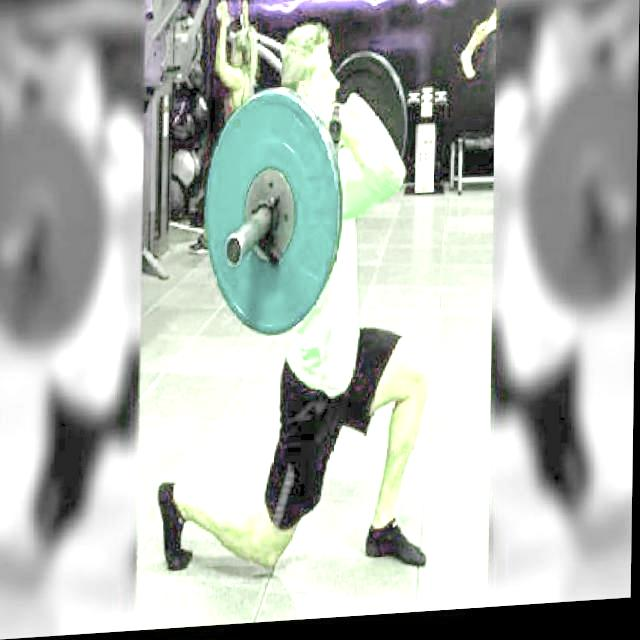barbell: (203, 93, 344, 344)
